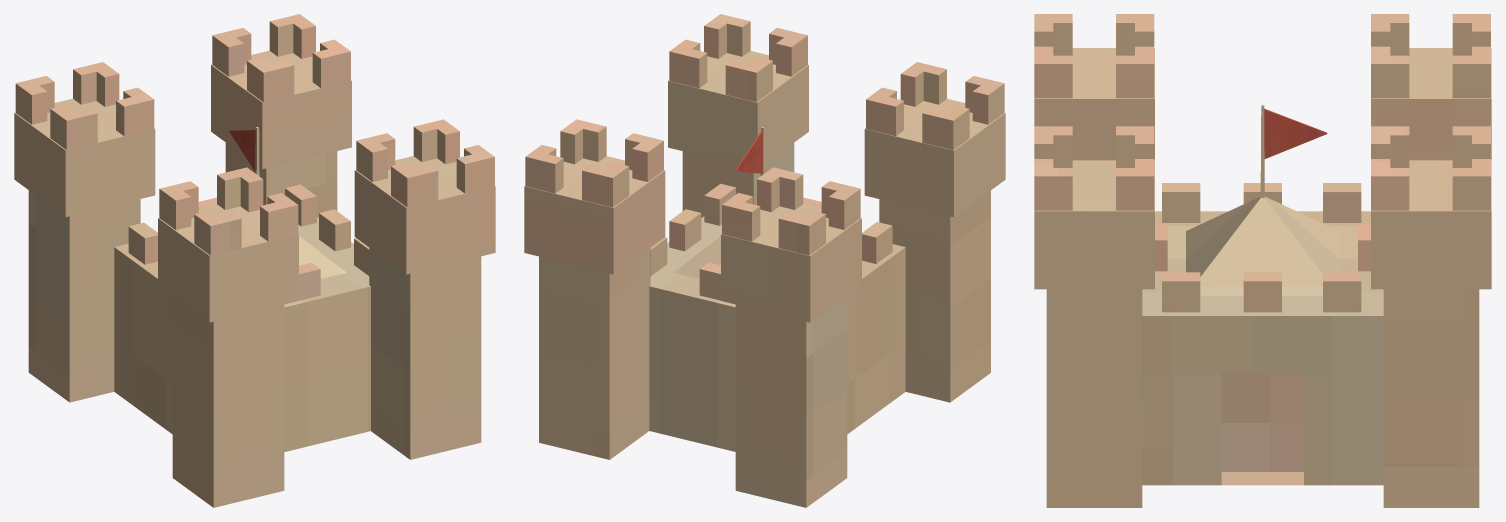
The model's file is sandcastle.glb.
The picture shows the model from 3 angles, left to right: view 1: azimuth 30°, elevation 25°; view 2: azimuth 150°, elevation 25°; view 3: azimuth 270°, elevation 25°; orthographic projection. The views are drawn at different scales.
Parts seen in each view (by area): view 1: Cube.014_Cube.019; view 2: Cube.014_Cube.019; view 3: Cube.014_Cube.019.
Boxes of the visible parts, box(x1,y1,x2,y2) form: Cube.014_Cube.019: box(14, 14, 495, 507); Cube.014_Cube.019: box(524, 14, 1005, 507); Cube.014_Cube.019: box(1034, 14, 1491, 507).
Bounding box in the file's own units: 1.65 × 1.59 × 1.96.
Materials: 1 (1 with a texture image).
